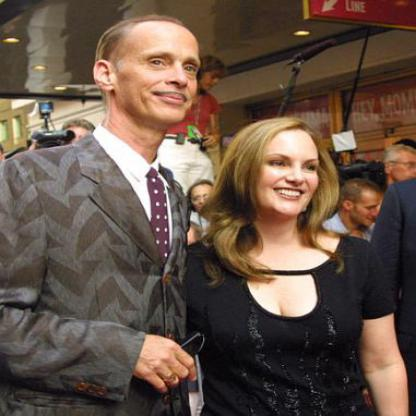face: (113, 21, 208, 129), (251, 125, 330, 218), (354, 185, 385, 229), (192, 184, 218, 214), (201, 65, 225, 93)
